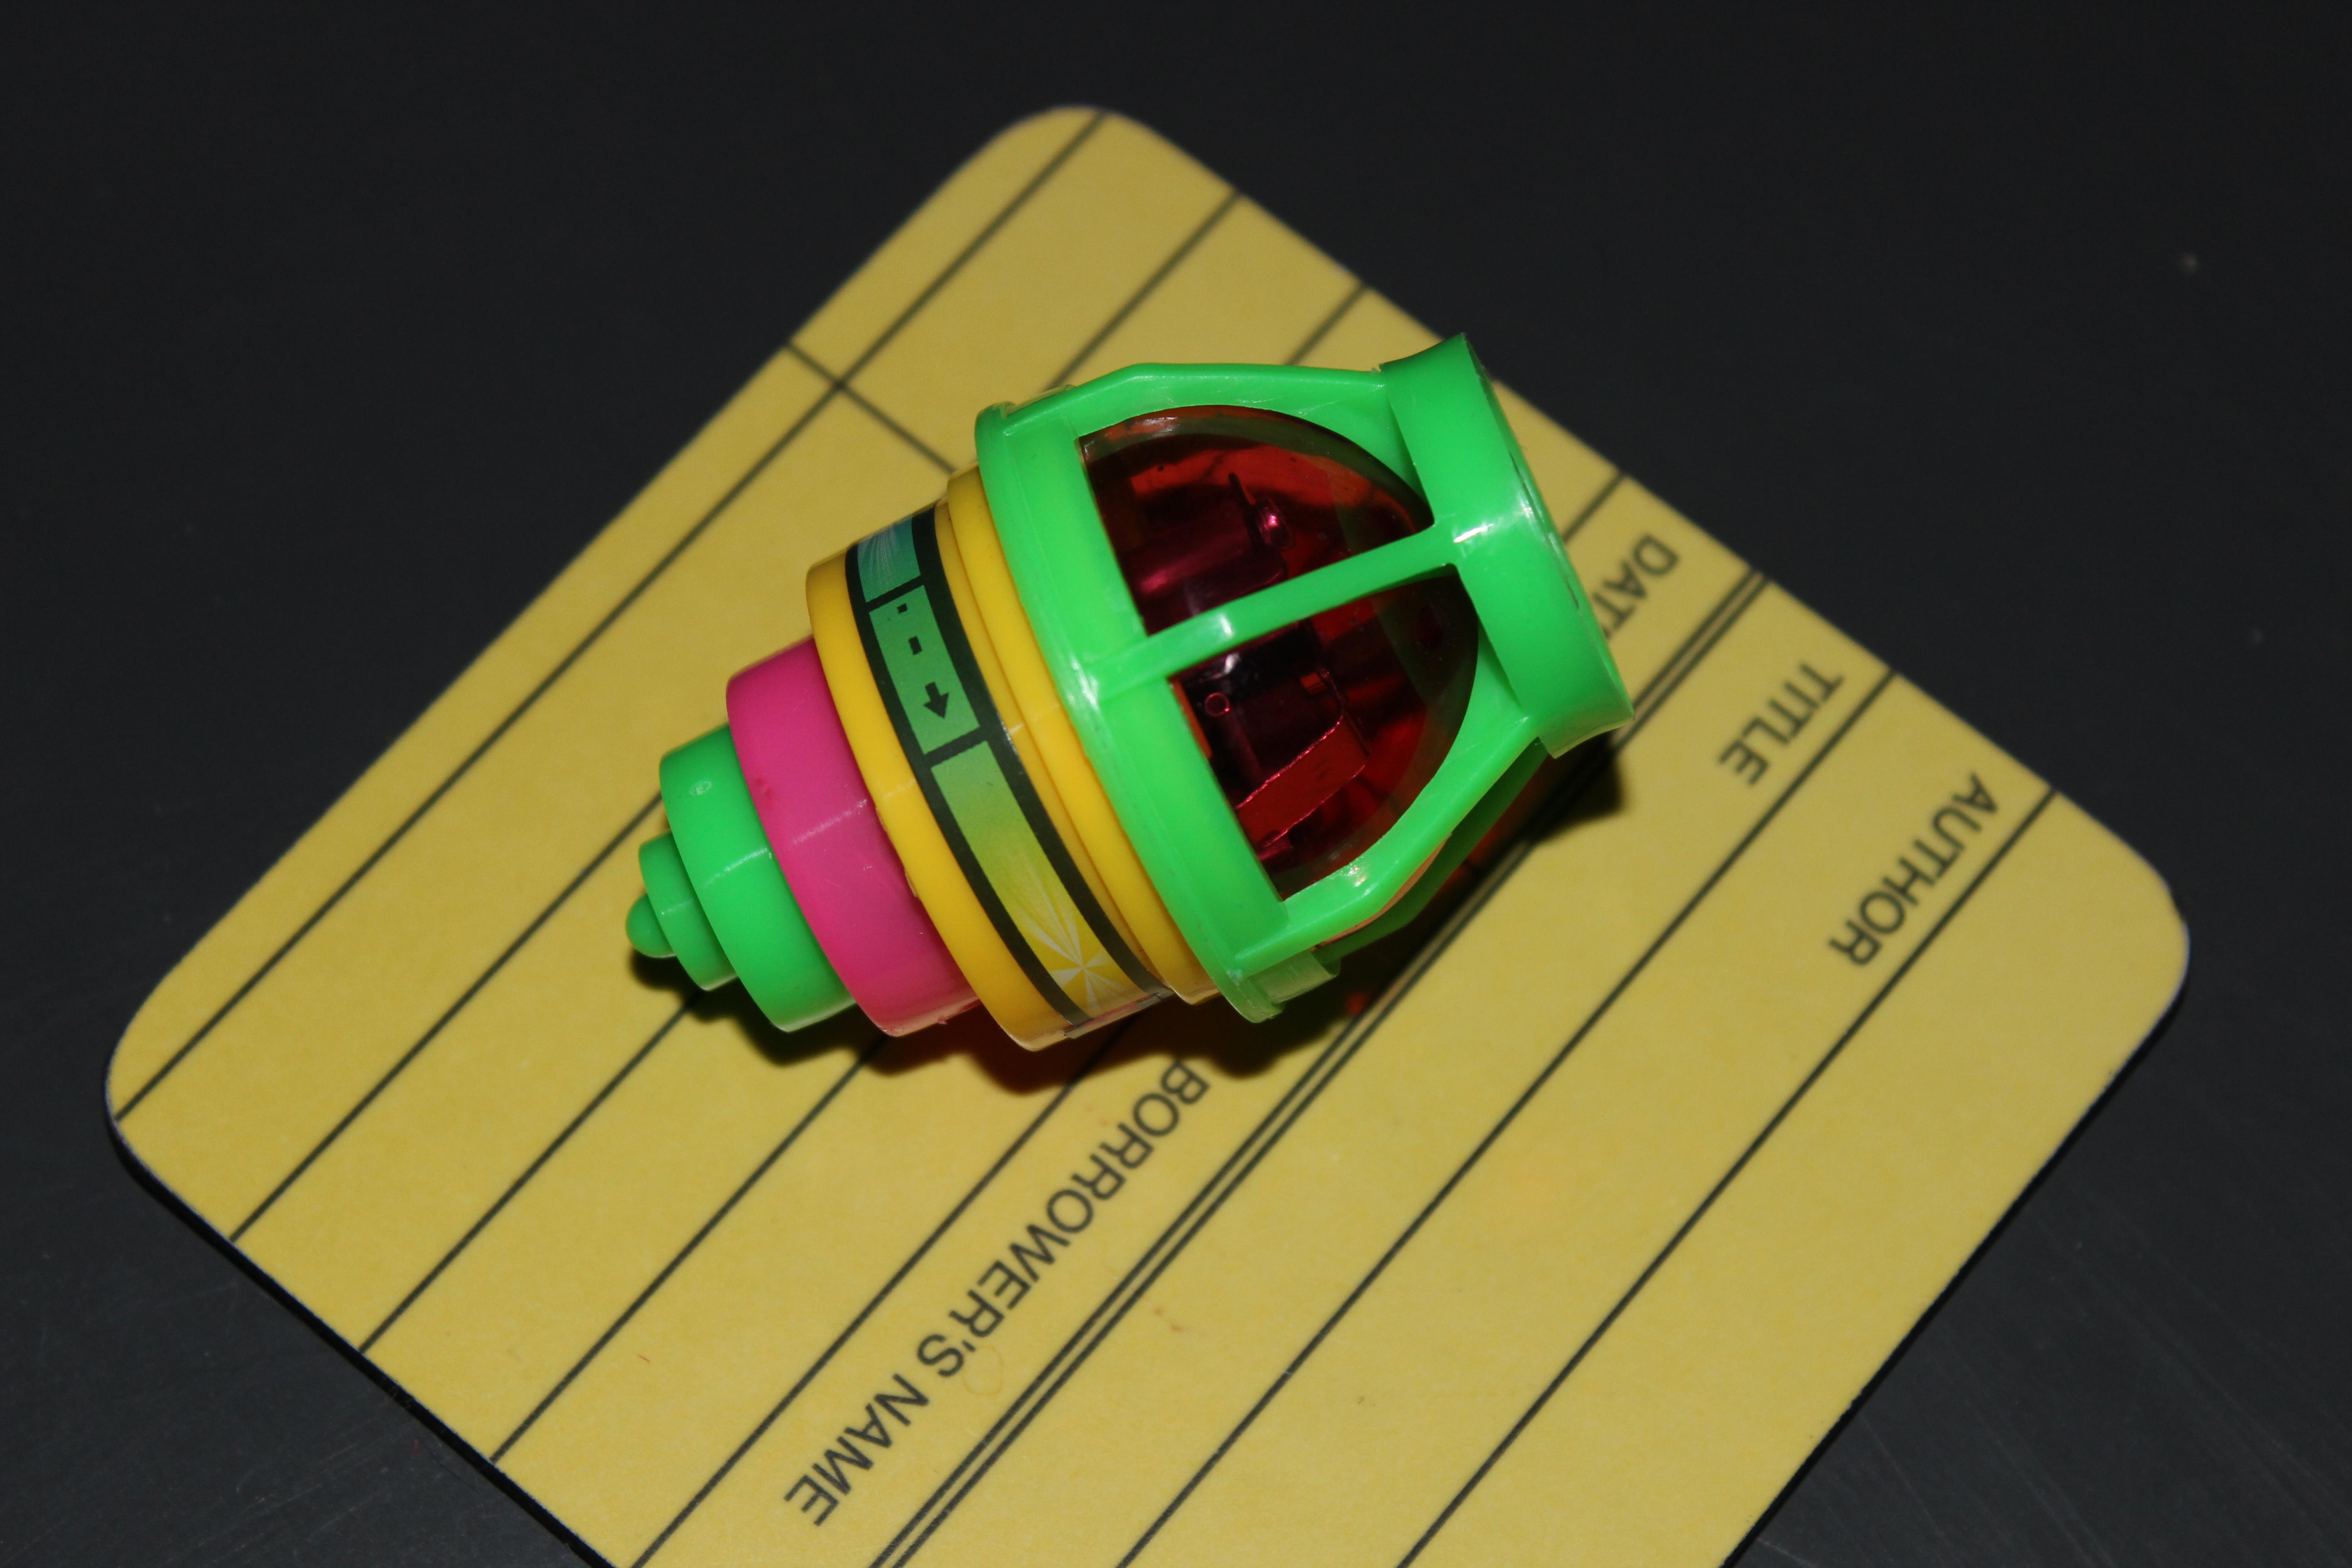gyroscope: (598, 320, 1652, 1113)
